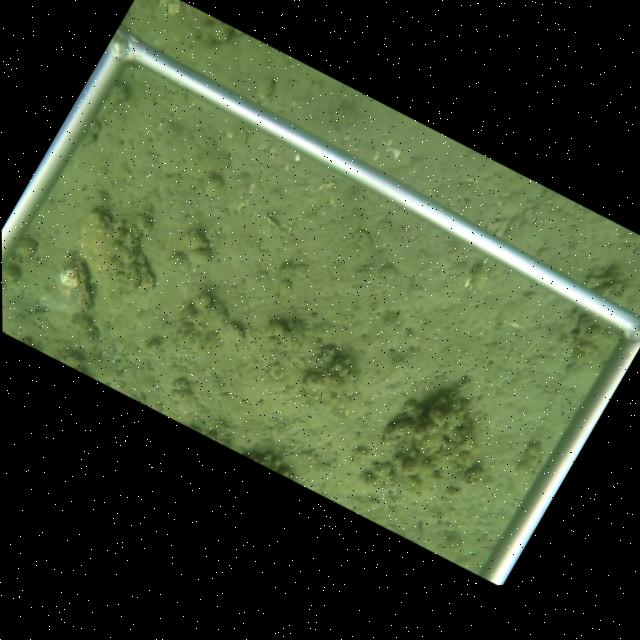Oyster-Indeterminate: (76, 211, 155, 313), (42, 250, 94, 317)
